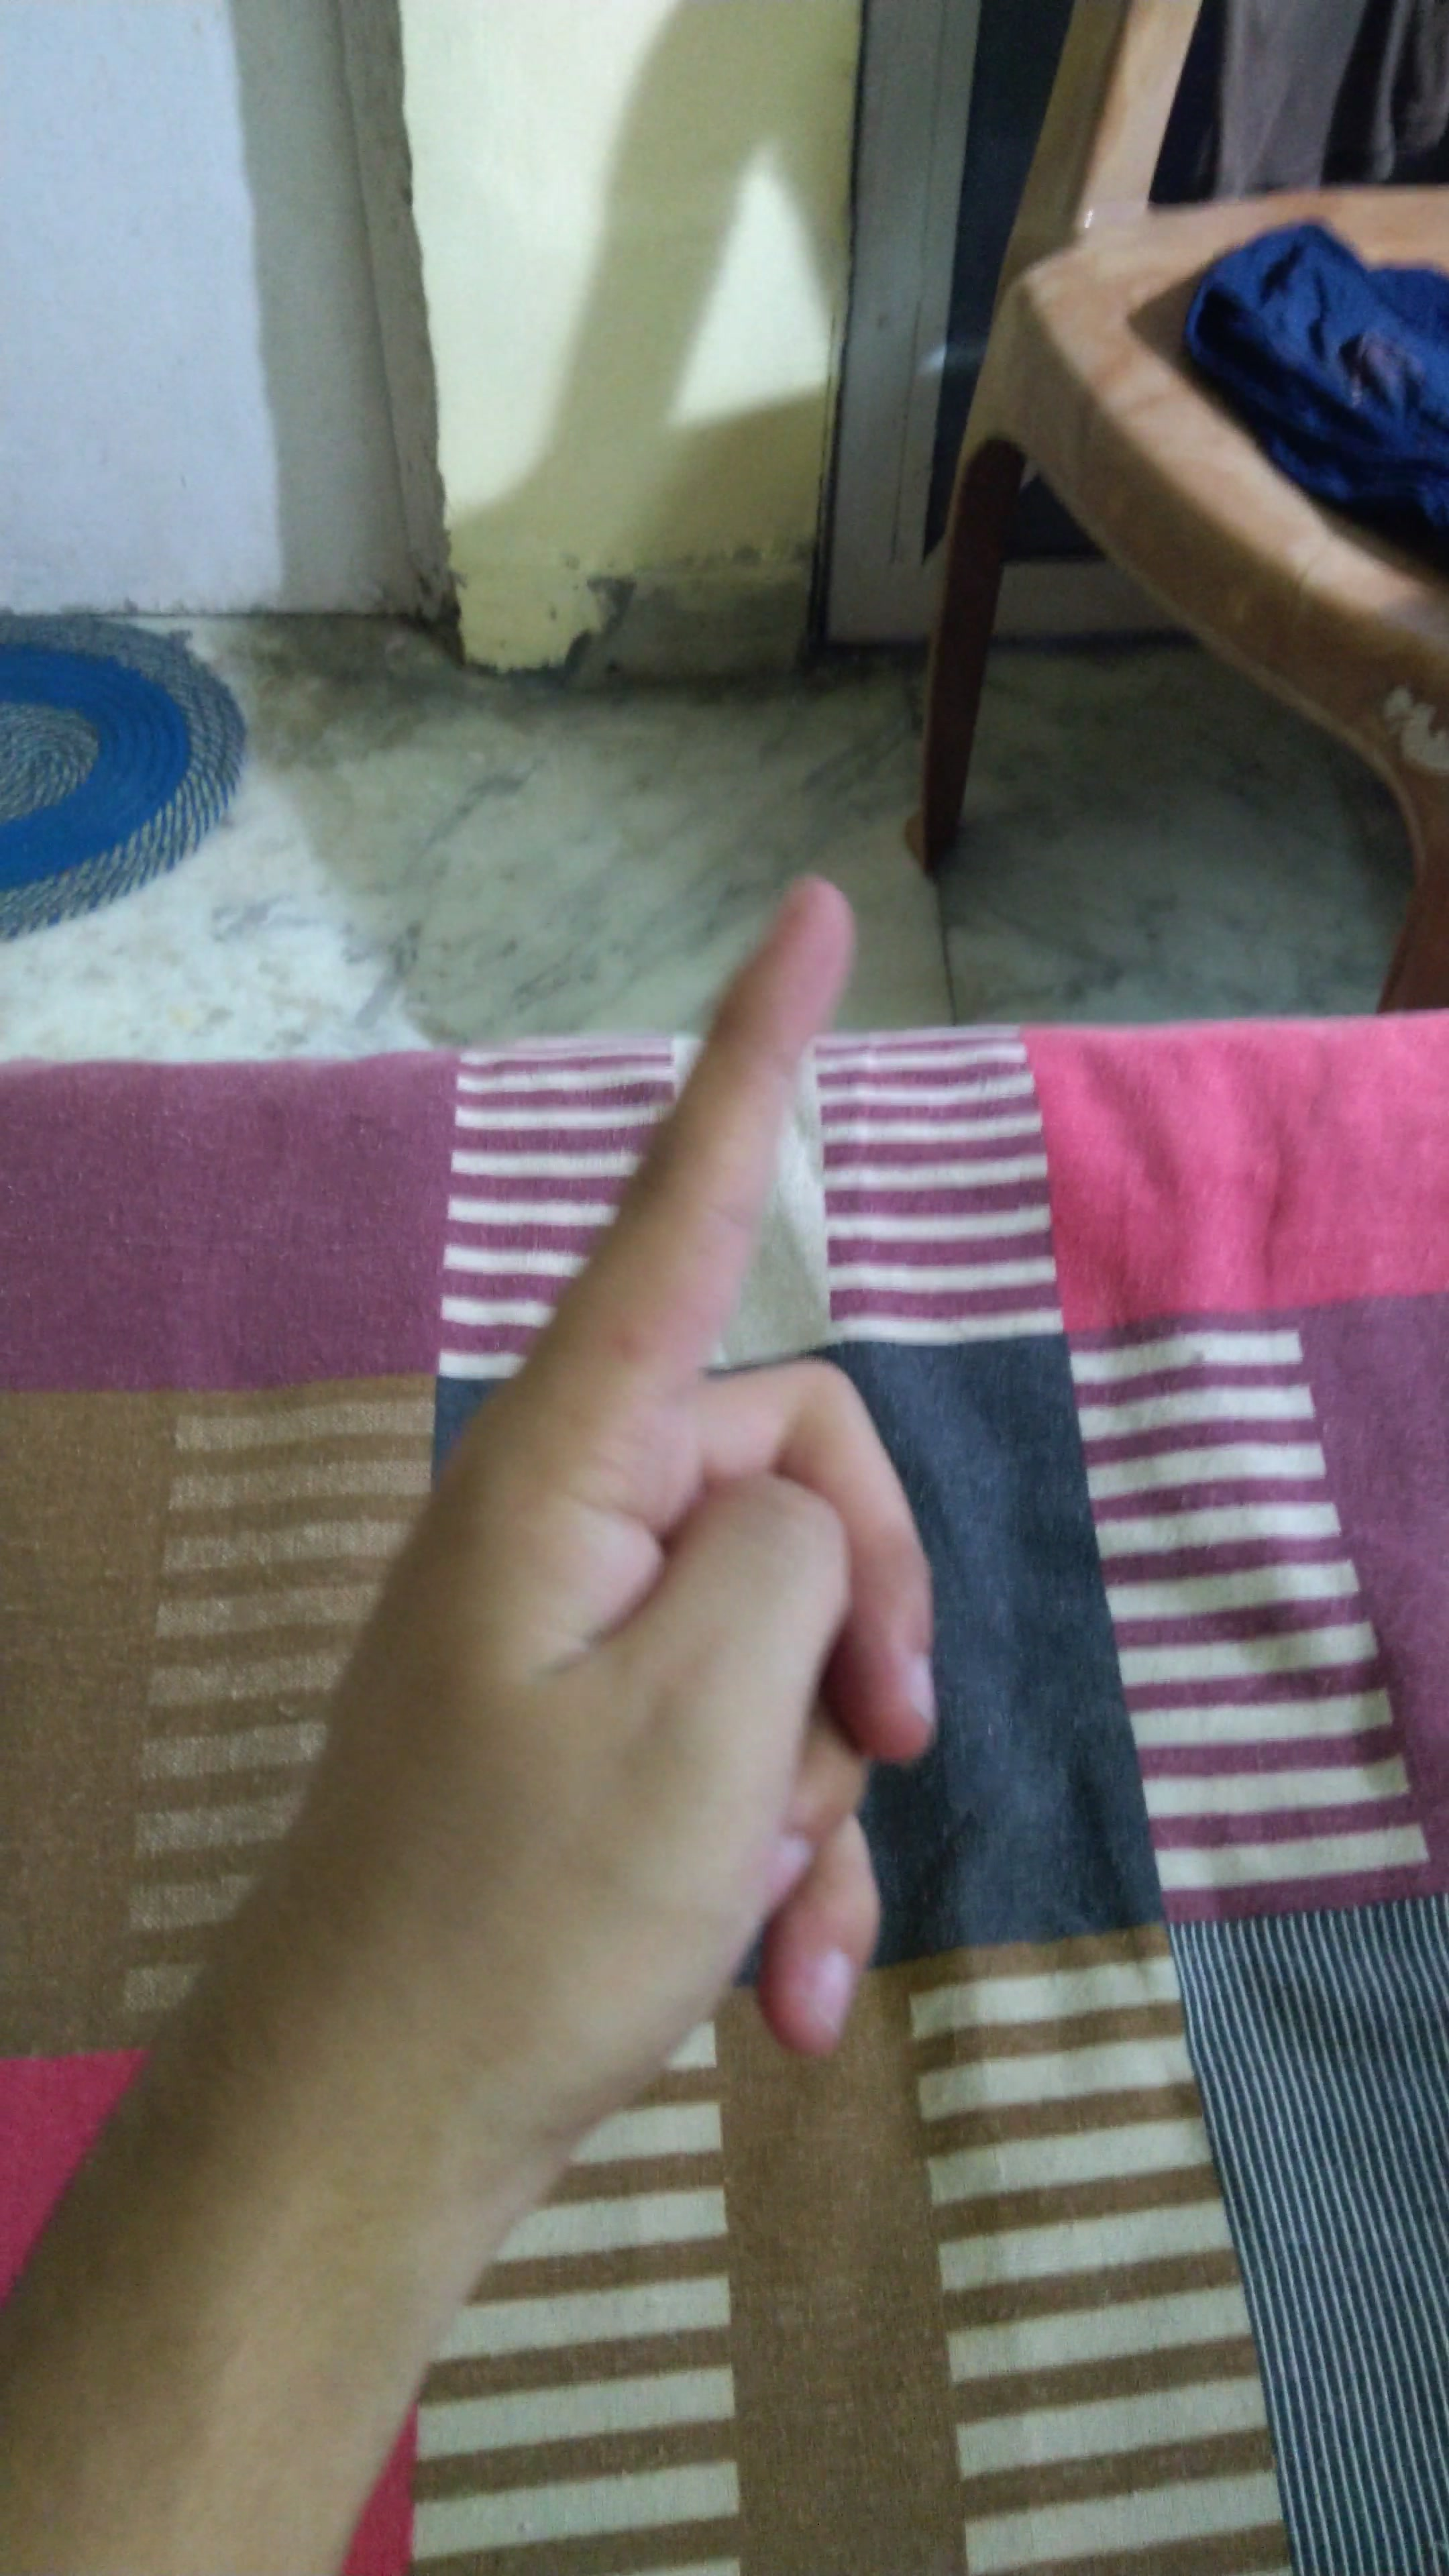hand: (248, 798, 1049, 2107)
